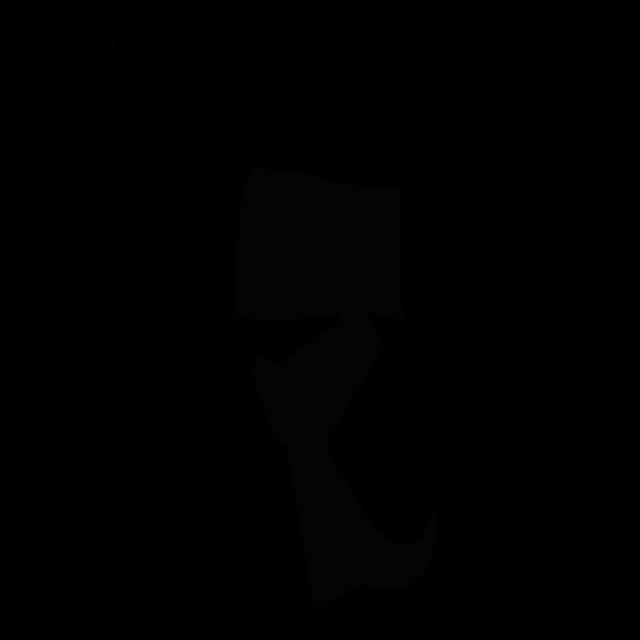rigid_plastic: (21, 0, 124, 87)
soft_plastic: (253, 311, 436, 609), (235, 167, 407, 320)
